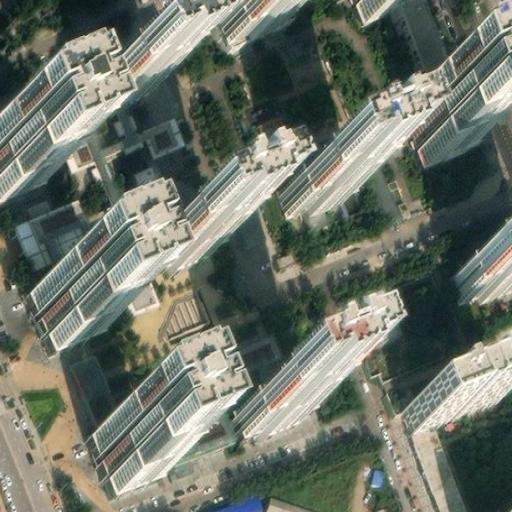building: (398, 406, 474, 512), (85, 201, 149, 305), (405, 75, 483, 158), (31, 263, 107, 346), (90, 401, 165, 484), (401, 365, 499, 424), (18, 190, 96, 262), (153, 401, 244, 461), (399, 0, 458, 81), (85, 48, 167, 105), (231, 371, 313, 428), (281, 153, 362, 210), (147, 210, 229, 266), (0, 113, 49, 194), (212, 0, 294, 41), (261, 490, 337, 512), (83, 378, 121, 417), (208, 487, 262, 512), (366, 465, 386, 489), (506, 236, 512, 253)
